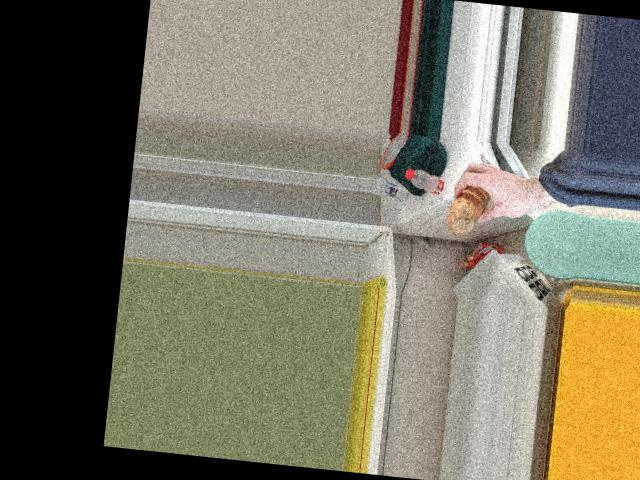sweet_potato: (446, 184, 490, 228)
